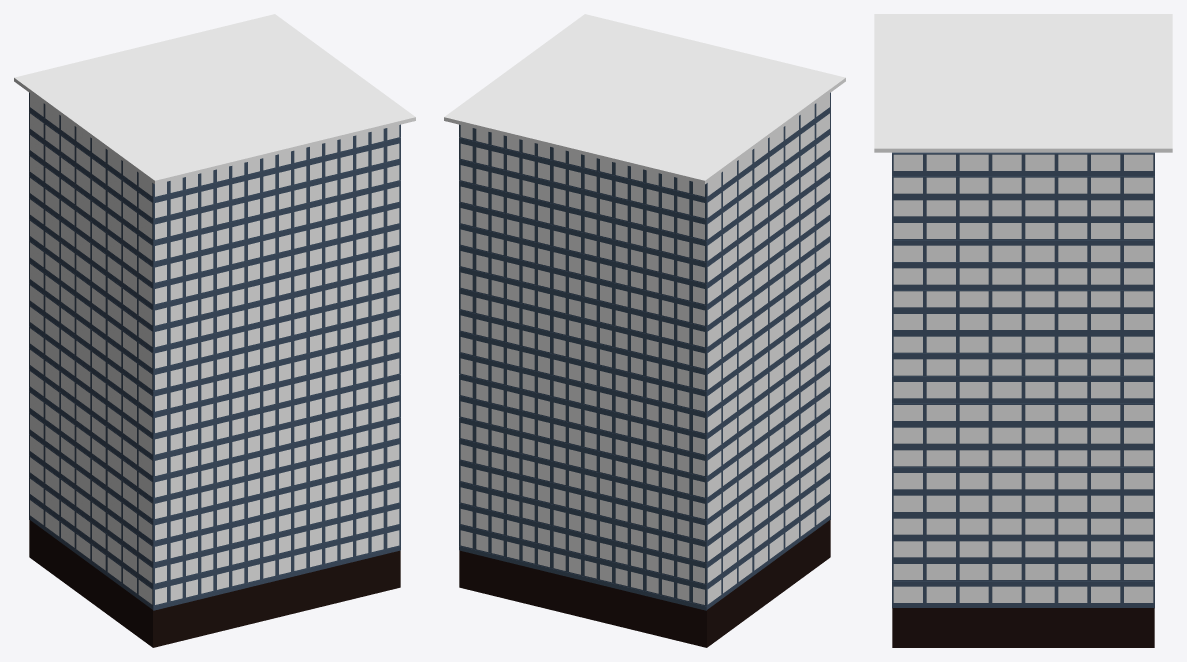
Rendered from sky_building20.glb.
3 renders of one model, left to right at view 1: azimuth 30°, elevation 25°; view 2: azimuth 150°, elevation 25°; view 3: azimuth 270°, elevation 25°, orthographic. The views are drawn at different scales.
Visible parts, largest first — view 1: Plane, Plane.002, Plane.001; view 2: Plane, Plane.002, Plane.001; view 3: Plane, Plane.002, Plane.001.
Boxes of the visible parts, x1=… form: Plane: x1=29, y1=92, x2=400, y2=610; Plane.002: x1=14, y1=14, x2=415, y2=184; Plane.001: x1=29, y1=520, x2=400, y2=647; Plane: x1=459, y1=92, x2=830, y2=610; Plane.002: x1=444, y1=14, x2=845, y2=184; Plane.001: x1=459, y1=520, x2=830, y2=647; Plane: x1=892, y1=152, x2=1154, y2=607; Plane.002: x1=874, y1=14, x2=1172, y2=152; Plane.001: x1=892, y1=608, x2=1154, y2=647.
Bounding box in the file's own units: 9.89 × 17.19 × 9.25.
